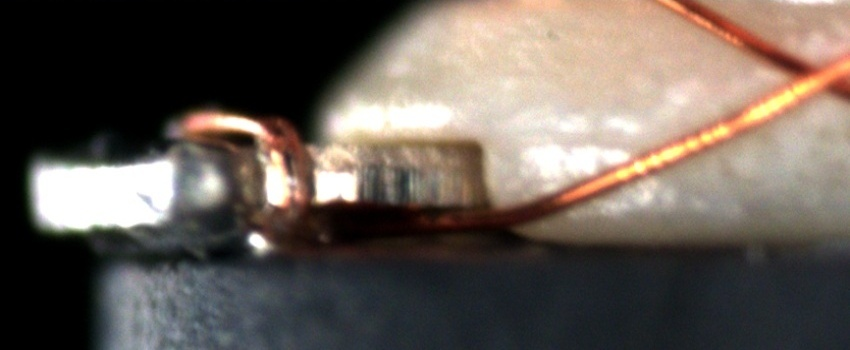CL: (768, 45, 846, 105)
DL: (517, 122, 655, 169)
TE: (182, 101, 315, 239)
